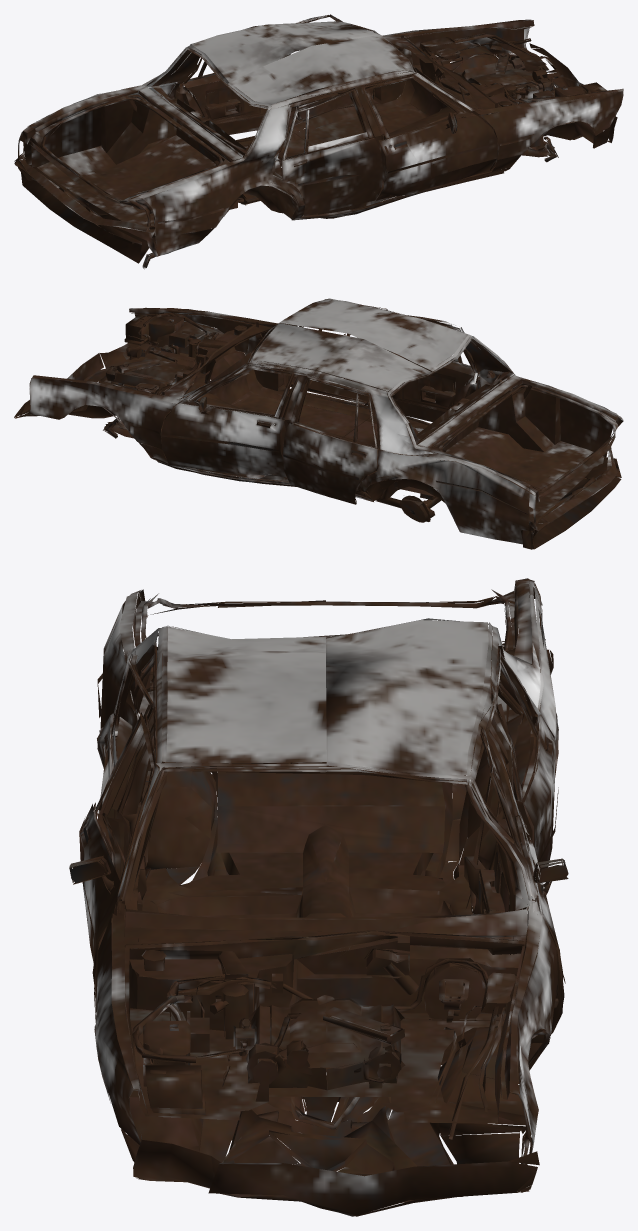
File: car_junk_01.glb
The picture shows the model from 3 angles, top to bottom: view 1: azimuth 30°, elevation 25°; view 2: azimuth 150°, elevation 25°; view 3: azimuth 270°, elevation 25°; orthographic projection. The views are drawn at different scales.
Parts seen in each view (by area): view 1: Object026_Material #8770_0; view 2: Object026_Material #8770_0; view 3: Object026_Material #8770_0.
Boxes of the visible parts, x1,y1,x2,y2 form: Object026_Material #8770_0: (14, 14, 623, 269); Object026_Material #8770_0: (14, 298, 623, 549); Object026_Material #8770_0: (69, 578, 568, 1216).
Size of the model in its own units: 4.5 by 1.14 by 1.83.
Materials: 5 (5 with a texture image).
